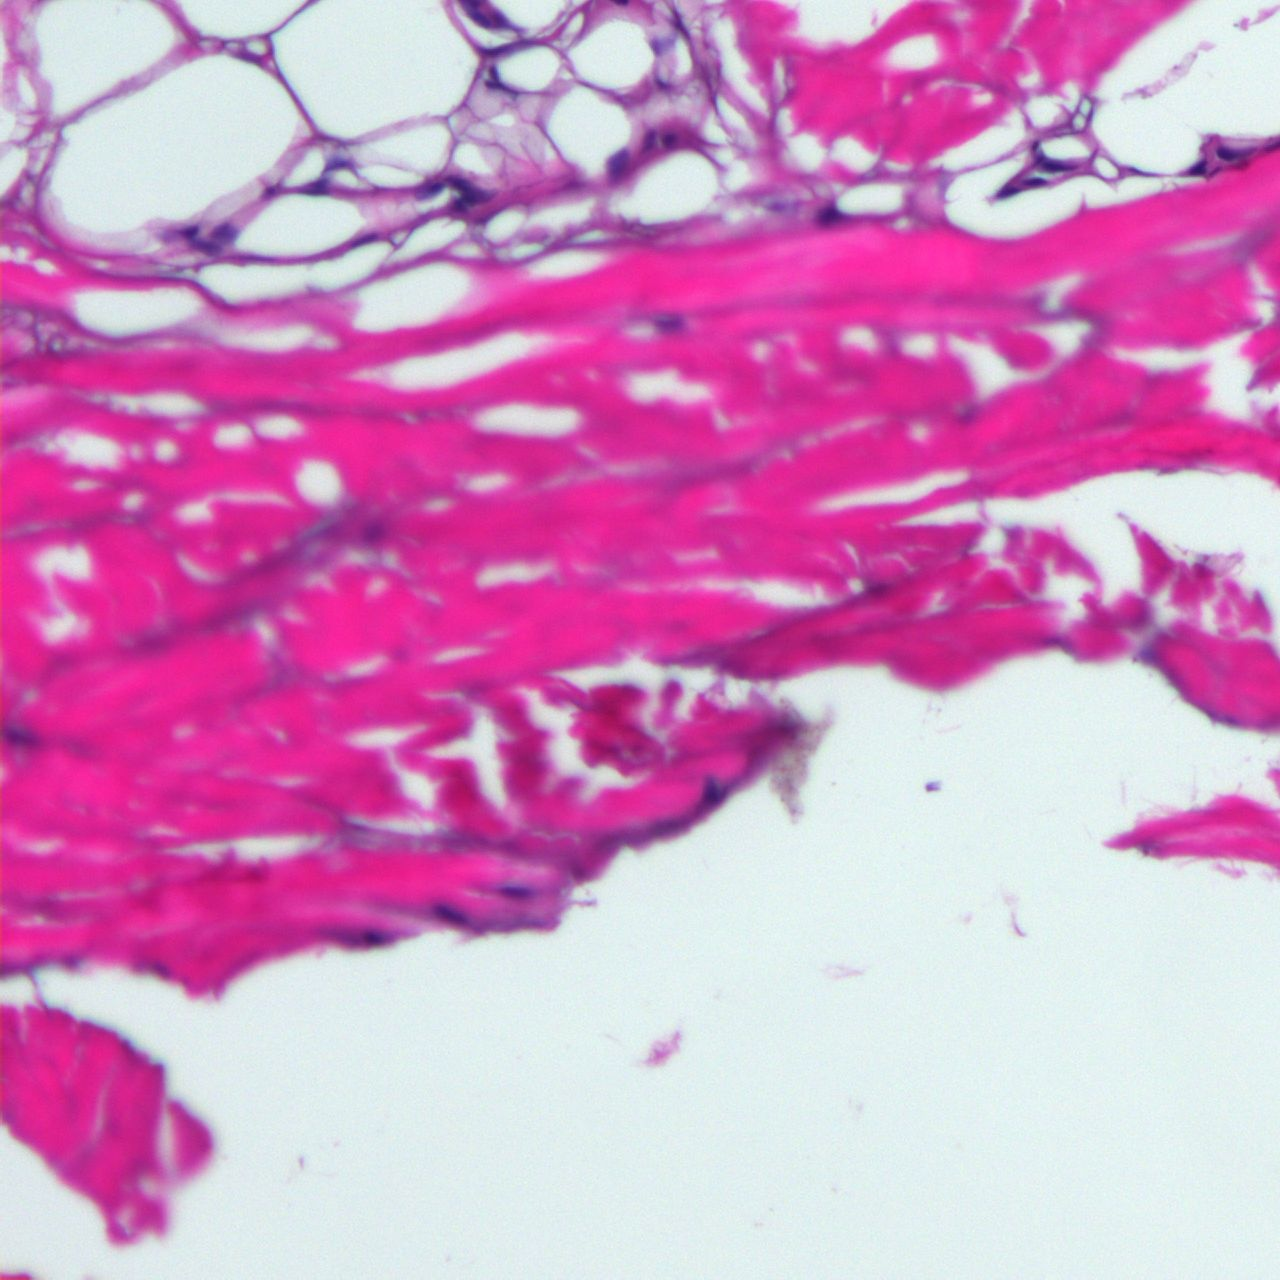dust: (751, 1219, 765, 1228)
nucleus-HE: (177, 220, 226, 264), (449, 173, 493, 212), (433, 900, 467, 928), (1216, 143, 1258, 161), (816, 202, 840, 229), (608, 148, 628, 175), (1040, 159, 1077, 171), (302, 178, 331, 193), (641, 128, 656, 154), (995, 184, 1020, 198), (1189, 159, 1208, 176), (362, 931, 383, 946), (661, 130, 678, 149), (502, 885, 530, 896), (1022, 176, 1046, 188)
